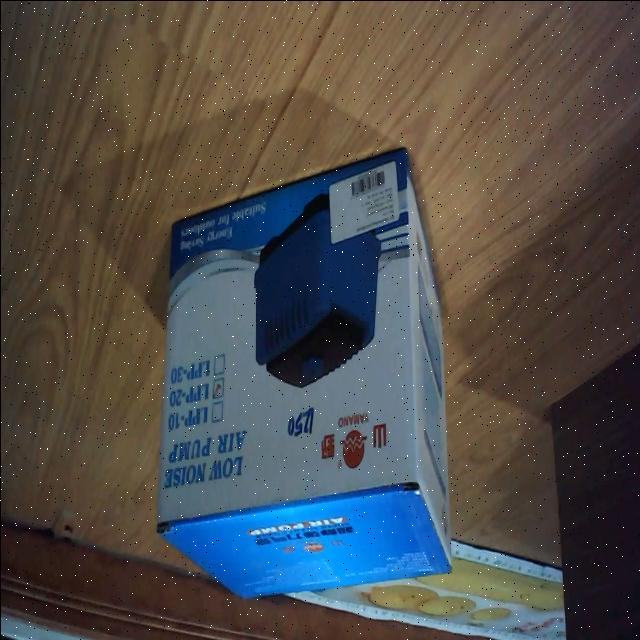YAMANO_LPP_20: (143, 140, 458, 616)
